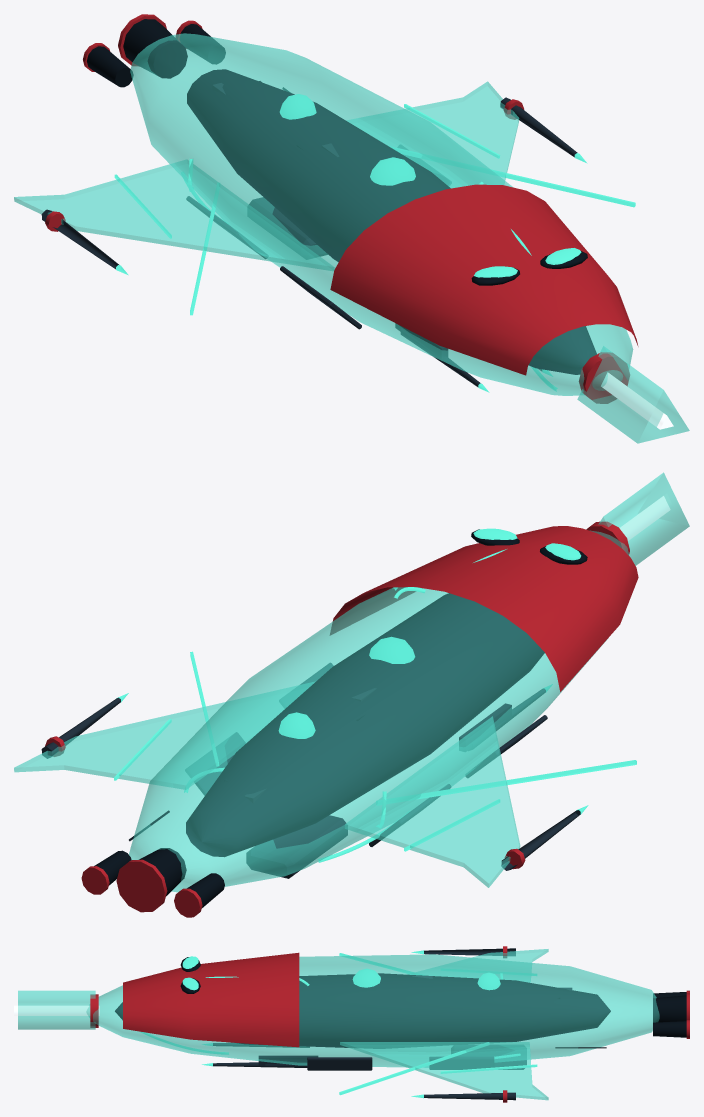
The model's file is refleks-swietlisci-hawk-5-lod0.glb.
3 renders of one model, top to bottom at view 1: azimuth 30°, elevation 25°; view 2: azimuth 150°, elevation 25°; view 3: azimuth 270°, elevation 25°, orthographic. The views are drawn at different scales.
Bounding box in the file's own units: 8.96 × 2.78 × 17.11.
